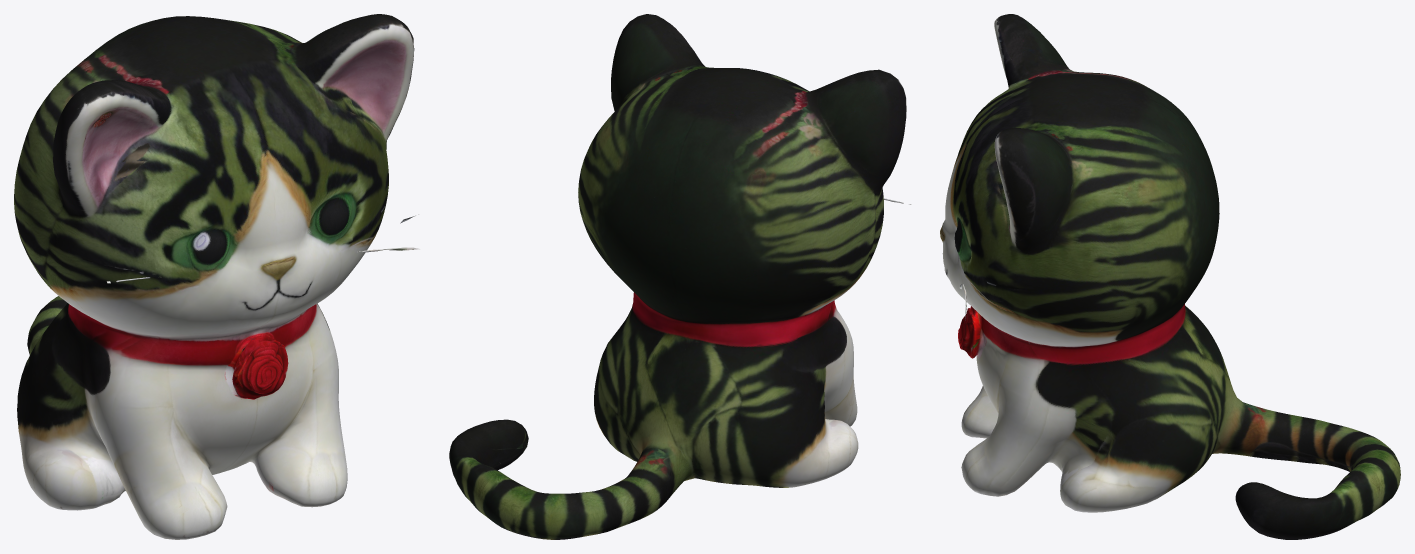
The model's file is _Rosy_Parkour_0709053502_texture.glb.
3 views of the same model, side by side, from view 1: azimuth 30°, elevation 25°; view 2: azimuth 150°, elevation 25°; view 3: azimuth 270°, elevation 25° (orthographic). The views are drawn at different scales.
Size of the model in its own units: 1.66 by 1.87 by 2.
1 material, 1 textured.
